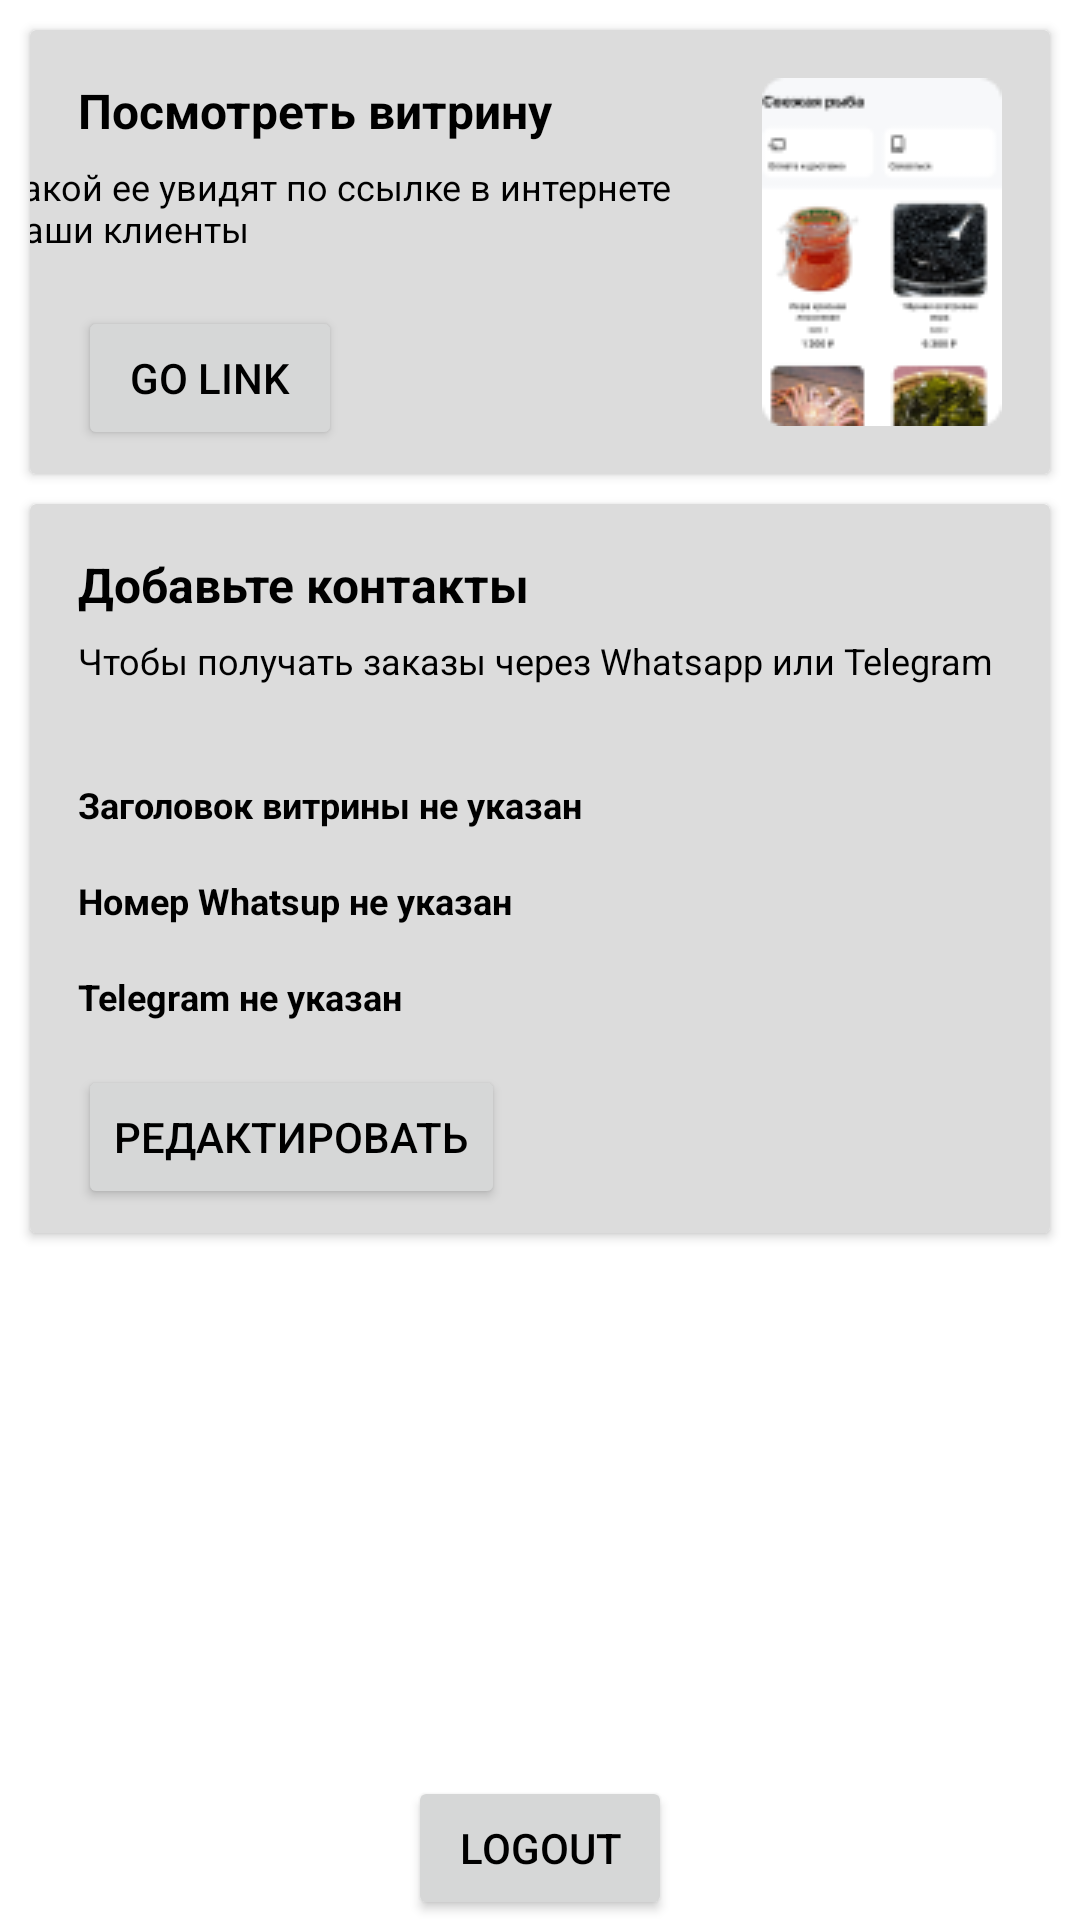

Where icons sit on this 1080px x 1920px app screen, as (x1, y1, x2, y2):
showcase example: (762, 78, 1002, 426)
